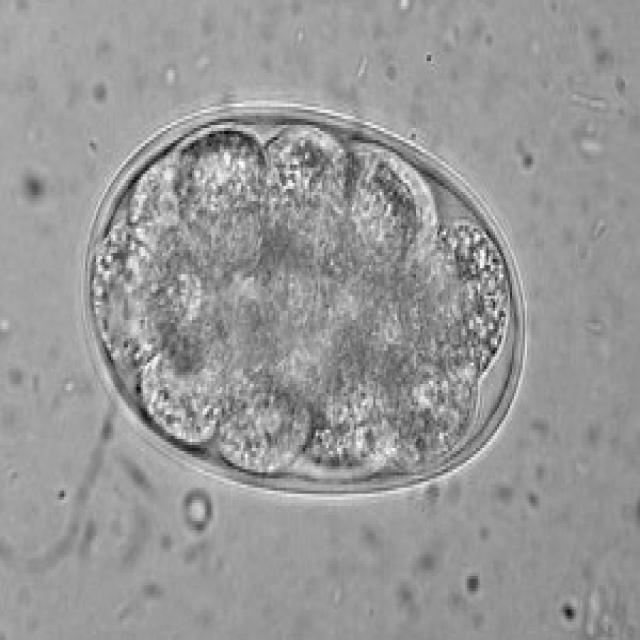Ancylostoma Spp: (75, 90, 531, 507)
